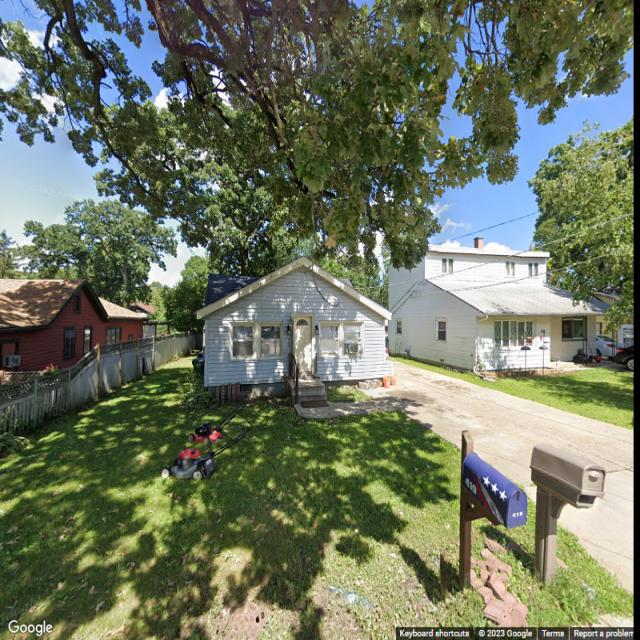House: (387, 237, 618, 371), (194, 253, 394, 402), (0, 278, 149, 372)
